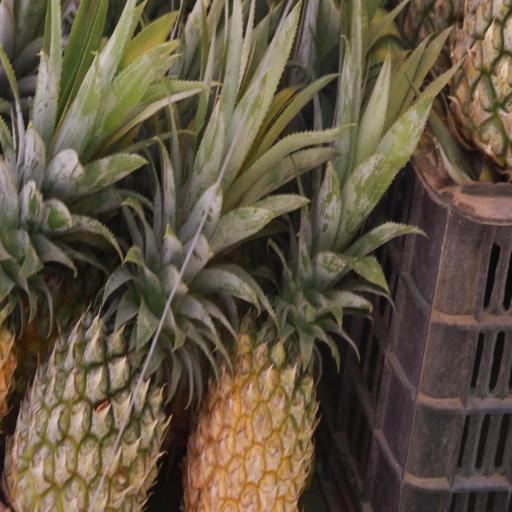Pineapple - v8 v1: (176, 262, 319, 512)
